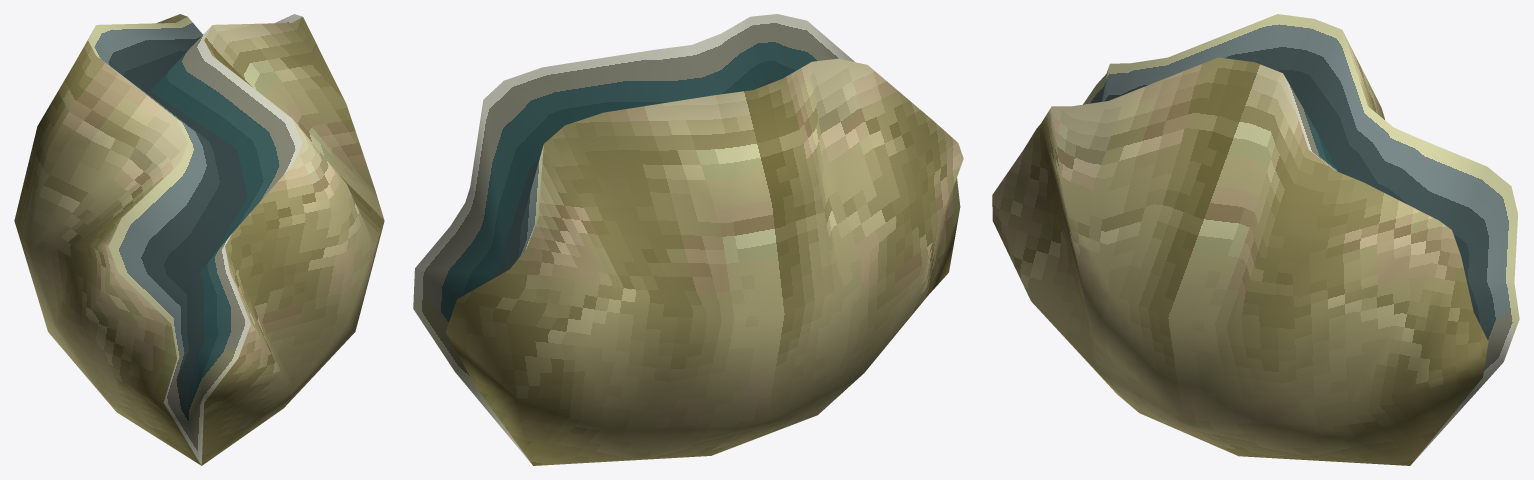
Rendered from int_shl_syako.dae.
3 views of the same model, side by side, from view 1: azimuth 30°, elevation 25°; view 2: azimuth 150°, elevation 25°; view 3: azimuth 270°, elevation 25° (orthographic). The views are drawn at different scales.
Visible parts, largest first — view 1: int_shl_syako; view 2: int_shl_syako; view 3: int_shl_syako.
Boxes of the visible parts, bbox=[...] form: int_shl_syako: bbox=[14, 14, 384, 465]; int_shl_syako: bbox=[413, 14, 963, 465]; int_shl_syako: bbox=[992, 14, 1519, 465].
Size of the model in its own units: 16.92 by 17.82 by 22.47.
1 material, 1 textured.
